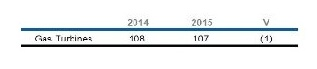table: (0, 0, 317, 69)
